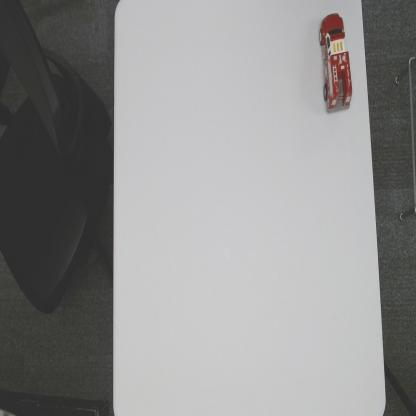Firetruck: (318, 10, 353, 114)
